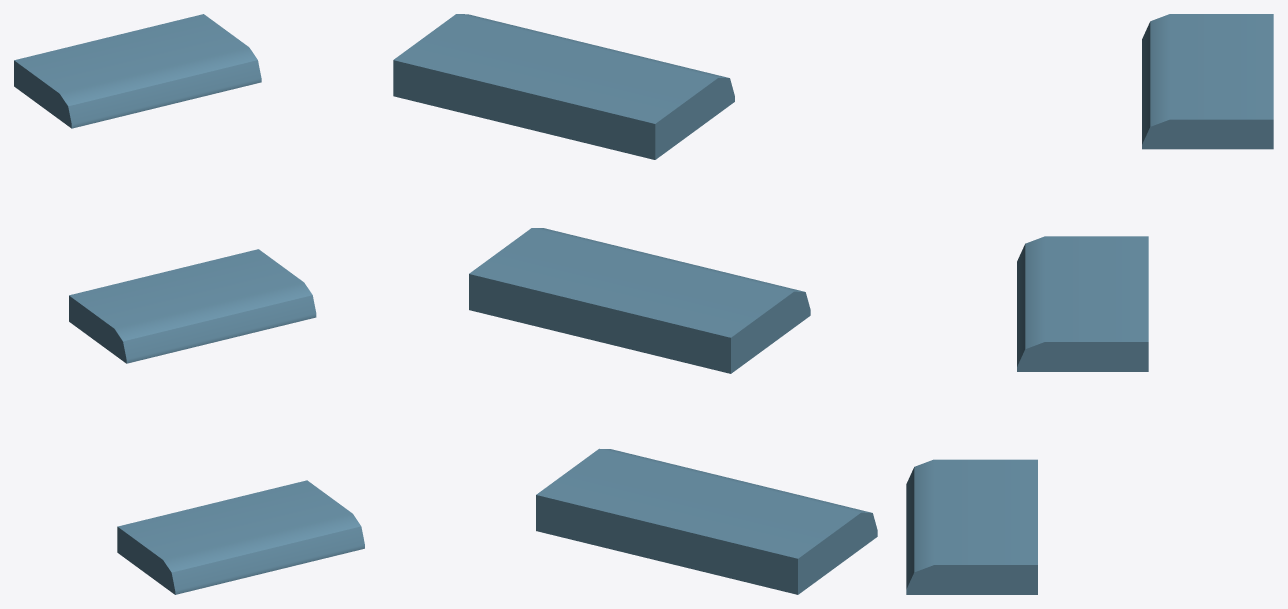
File: water_collision_lev1.fbx
3 views of the same model, side by side, from view 1: azimuth 30°, elevation 25°; view 2: azimuth 150°, elevation 25°; view 3: azimuth 270°, elevation 25° (orthographic). The views are drawn at different scales.
Parts seen in each view (by area): view 1: WaterCollision3, WaterCollision1, WaterCollision2; view 2: WaterCollision1, WaterCollision2, WaterCollision3; view 3: WaterCollision1, WaterCollision2, WaterCollision3.
Boxes of the visible parts, bbox=[...] form: WaterCollision3: bbox=[117, 480, 364, 594]; WaterCollision1: bbox=[14, 14, 261, 128]; WaterCollision2: bbox=[69, 249, 316, 363]; WaterCollision1: bbox=[393, 14, 734, 159]; WaterCollision2: bbox=[469, 228, 810, 373]; WaterCollision3: bbox=[536, 448, 877, 594]; WaterCollision1: bbox=[1142, 14, 1273, 149]; WaterCollision2: bbox=[1017, 236, 1148, 371]; WaterCollision3: bbox=[906, 459, 1037, 594].
Bounding box in the file's own units: 204 × 428 × 300.
